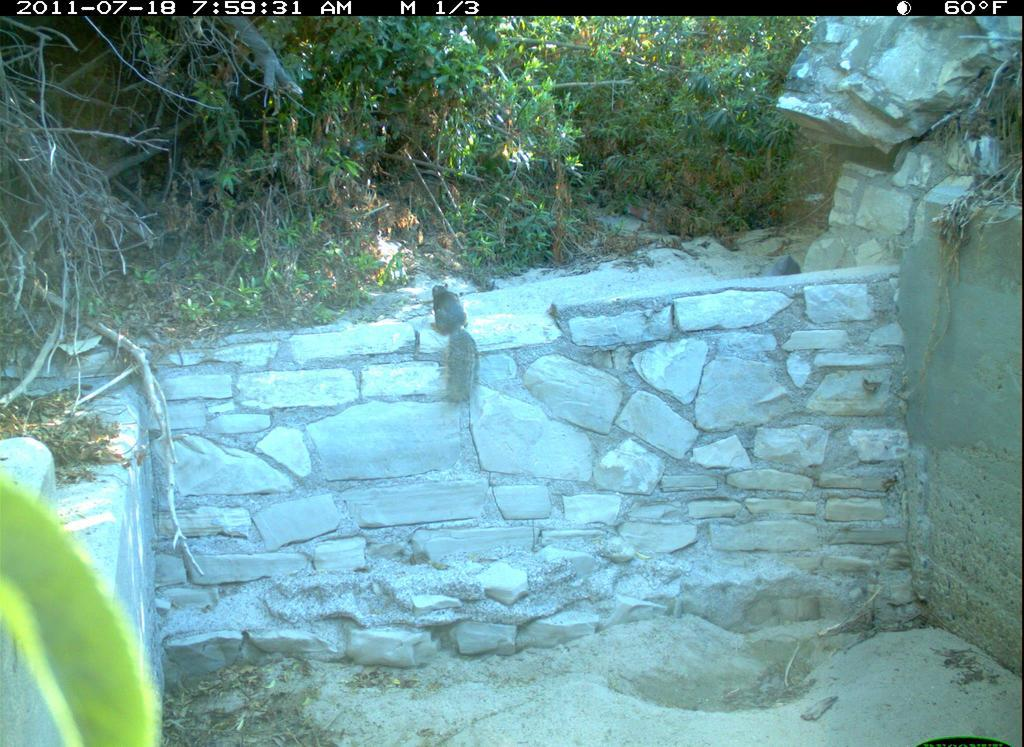squirrel: (419, 265, 488, 418)
